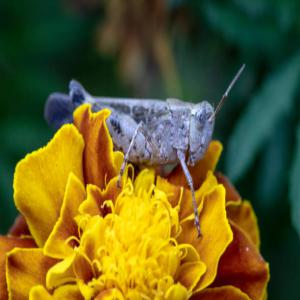locust: (43, 58, 246, 187)
